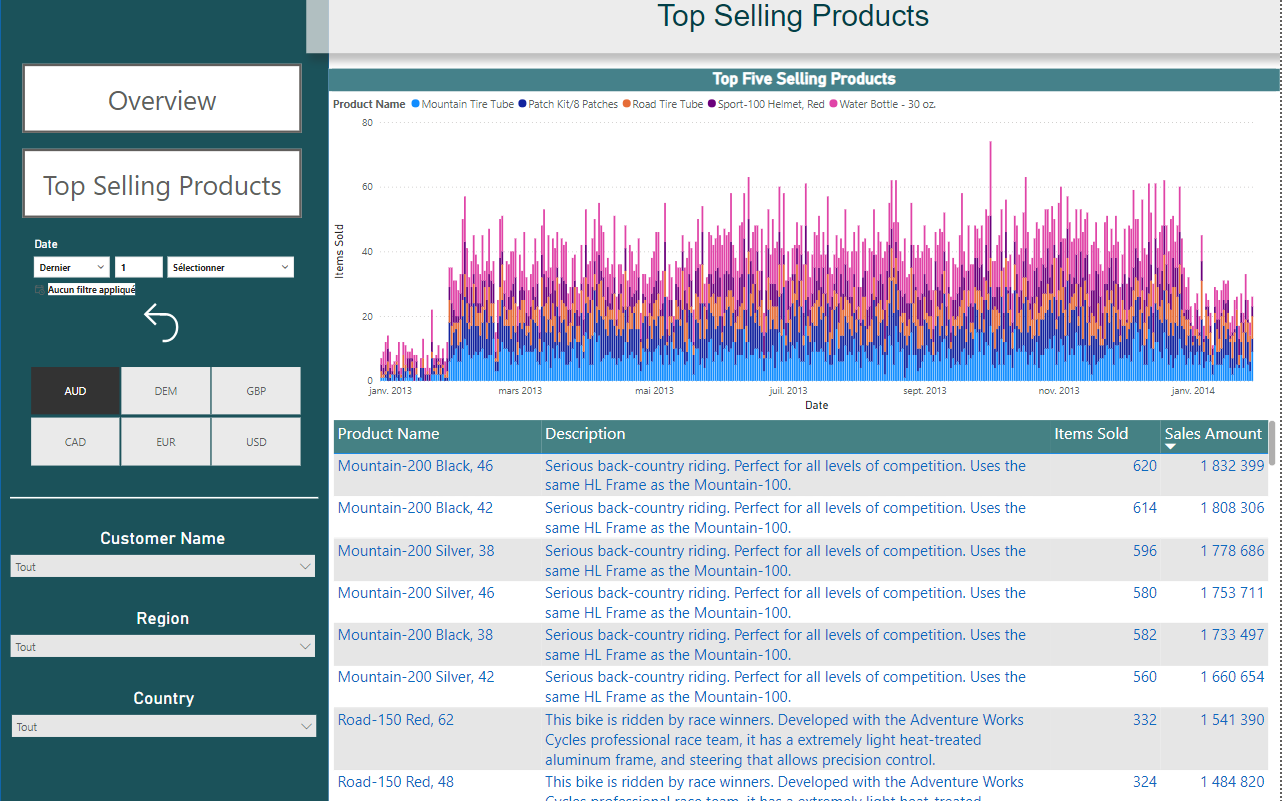

Layout of this report page (visuals, bound fields, positions):
{"tool":"powerbi","page":{"name":"Main Report","canvas":[1600,1200],"ordinal":0},"visuals":[{"type":"shape","box":[0,0,411.6,1201.3],"z":0},{"type":"shape","box":[12.3,590.4,385.4,75.5],"z":1000},{"type":"actionButton","box":[28.3,86.5,348.9,86.5],"z":3000},{"type":"actionButton","box":[28.3,192.4,348.9,86.5],"z":4000},{"type":"slicer","fields":{"Values":["Calendar Table.Date"]},"box":[29.8,298,351.6,159.4],"z":5000},{"type":"actionButton","box":[169.9,378.5,64.1,62.6],"z":6000},{"type":"slicer","fields":{"Values":["dimCurrency.CurrencyAlternateKey"]},"box":[11.9,457.4,387.4,137.1],"z":7000},{"type":"slicer","title":"Customer Name","fields":{"Values":["dimCustomer.Customer Name"]},"box":[3.1,665.9,400.8,100.2],"z":9000},{"type":"slicer","title":"Region","fields":{"Values":["dimSalesTerritory.SalesTerritoryRegion"]},"box":[3.1,766.1,400.8,100.2],"z":10000},{"type":"slicer","title":"Country","fields":{"Values":["dimSalesTerritory.SalesTerritoryCountry"]},"box":[4.6,866.3,400.8,100.2],"z":11000},{"type":"textbox","box":[382.2,0,1217.4,72.7],"z":14000},{"type":"tableEx","fields":{"Values":["dimProduct.EnglishProductName","dimProduct.EnglishDescription","#Measures.Number of Sales","#Measures.Currency Conversion"]},"box":[411.3,525.8,1188.7,674.2],"z":15000},{"type":"columnChart","title":"Top Five Selling Products","fields":{"Category":["Calendar Table.Date"],"Y":["#Measures.Number of Sales"],"Series":["dimProduct.EnglishProductName"]},"box":[411.3,91.9,1188.7,433.9],"z":16000}]}

Visuals, with their boxes on the page's 1600x1200 design canvas (x1, y1, x2, y2). These are canvas units, not pixel positions in the 1284x801 screenshot, which may show the page scaled, cropped or inside an application window:
shape: {"left": 0, "top": 0, "right": 412, "bottom": 1201}
shape: {"left": 12, "top": 590, "right": 398, "bottom": 666}
actionButton: {"left": 28, "top": 86, "right": 377, "bottom": 173}
actionButton: {"left": 28, "top": 192, "right": 377, "bottom": 279}
slicer - Calendar Table.Date: {"left": 30, "top": 298, "right": 381, "bottom": 457}
actionButton: {"left": 170, "top": 378, "right": 234, "bottom": 441}
slicer - dimCurrency.CurrencyAlternateKey: {"left": 12, "top": 457, "right": 399, "bottom": 594}
"Customer Name" slicer: {"left": 3, "top": 666, "right": 404, "bottom": 766}
"Region" slicer: {"left": 3, "top": 766, "right": 404, "bottom": 866}
"Country" slicer: {"left": 5, "top": 866, "right": 405, "bottom": 966}
textbox: {"left": 382, "top": 0, "right": 1600, "bottom": 73}
tableEx - dimProduct.EnglishProductName x dimProduct.EnglishDescription: {"left": 411, "top": 526, "right": 1600, "bottom": 1200}
"Top Five Selling Products" columnChart: {"left": 411, "top": 92, "right": 1600, "bottom": 526}
